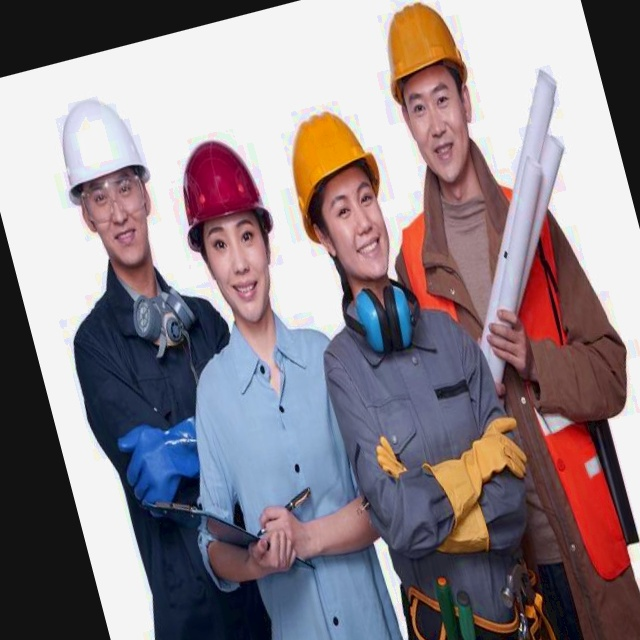Con_Casco: (165, 129, 289, 327), (276, 103, 406, 289), (371, 0, 491, 186), (46, 89, 167, 270)
